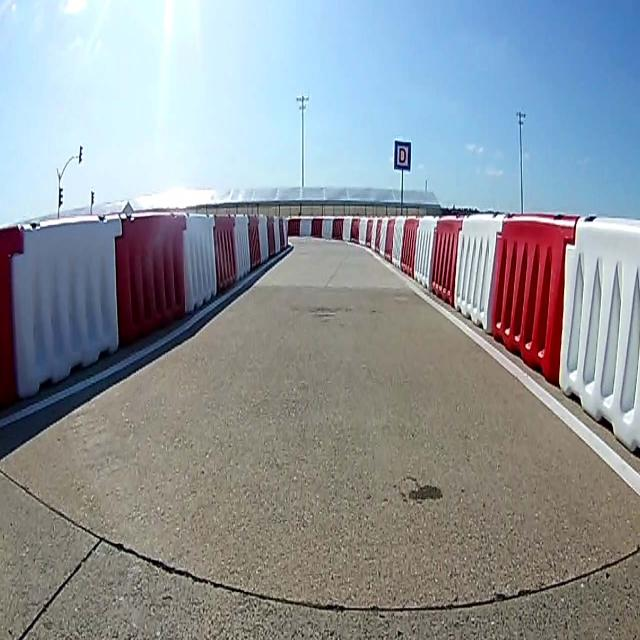durak: (394, 139, 411, 170)
